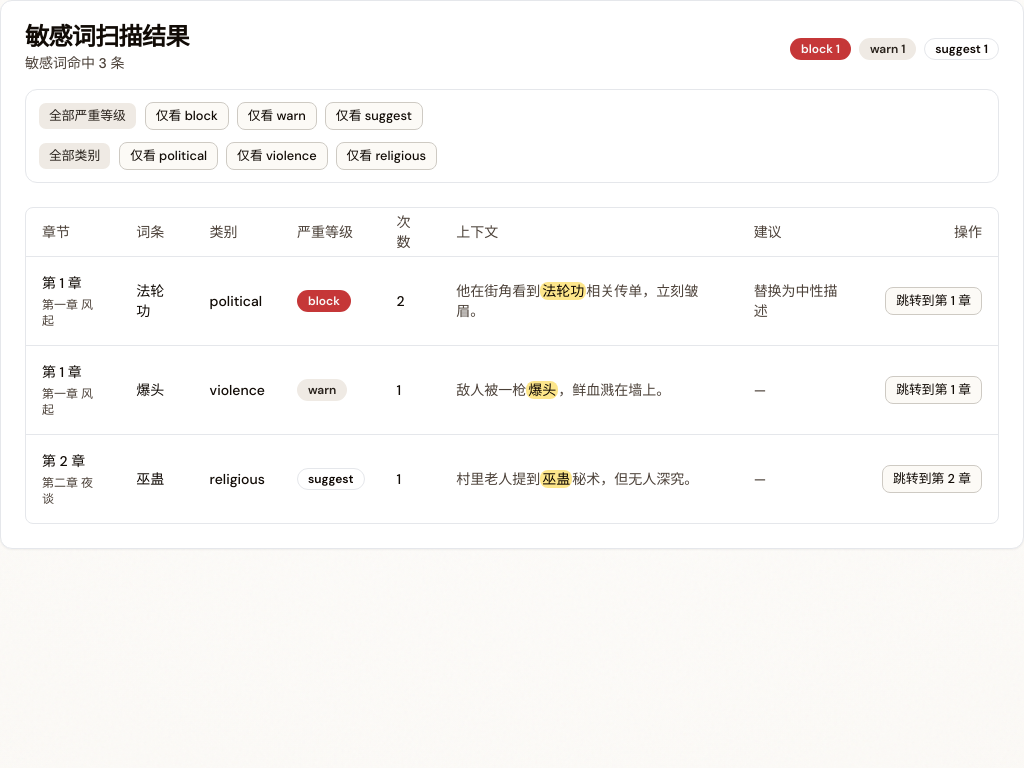
Test: SensitiveWordReport › renders hit rows and filters by severity/category
Expected: the text "敏感词命中 3 条" is shown, [25,54,124,72]
Expected: the text "法轮功" is shown, [120,256,194,345]
Click the button "仅看 block": (187,116) [145,102,229,130]
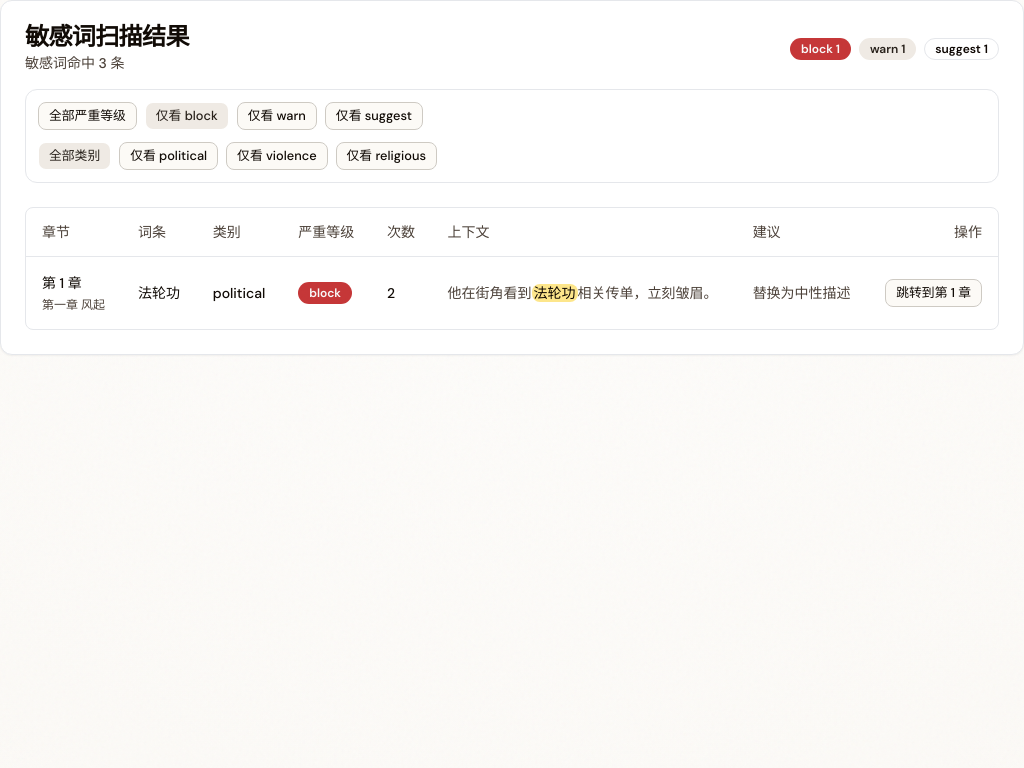
Expected: the text "法轮功" is shown, [122,256,197,328]
Expected: the text "爆头" is gone
Expected: the text "巫蛊" is gone
Click the button "全部严重等级": (87,116) [38,102,137,130]
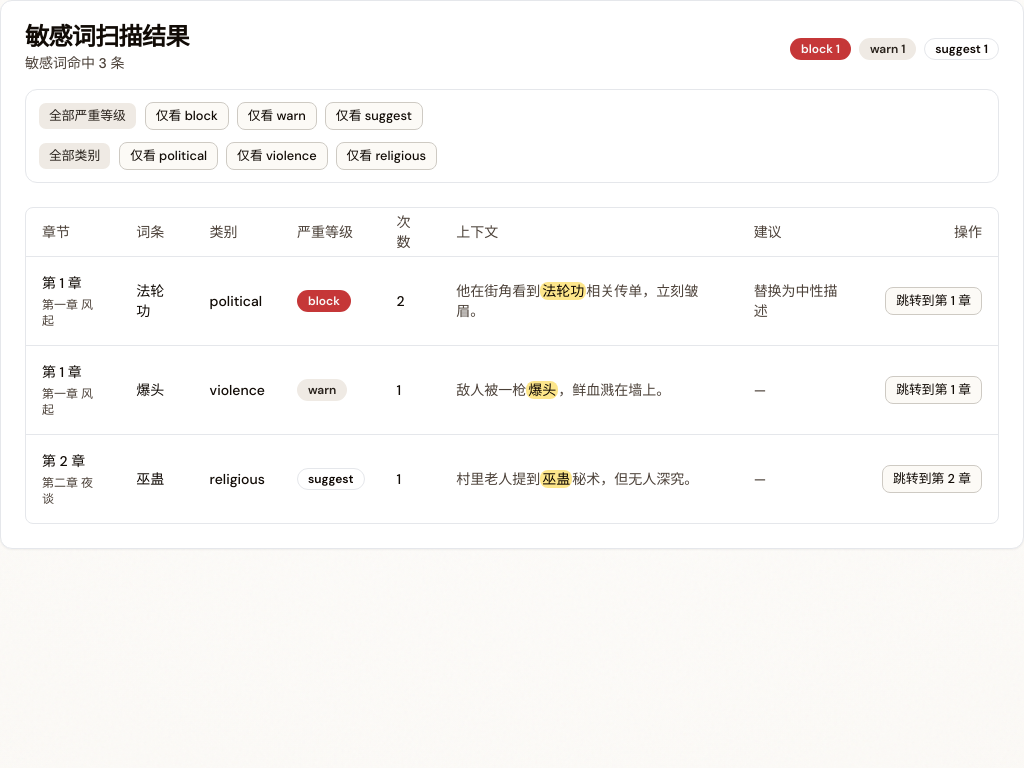
Click the button "仅看 violence": (277,156) [226,142,328,170]
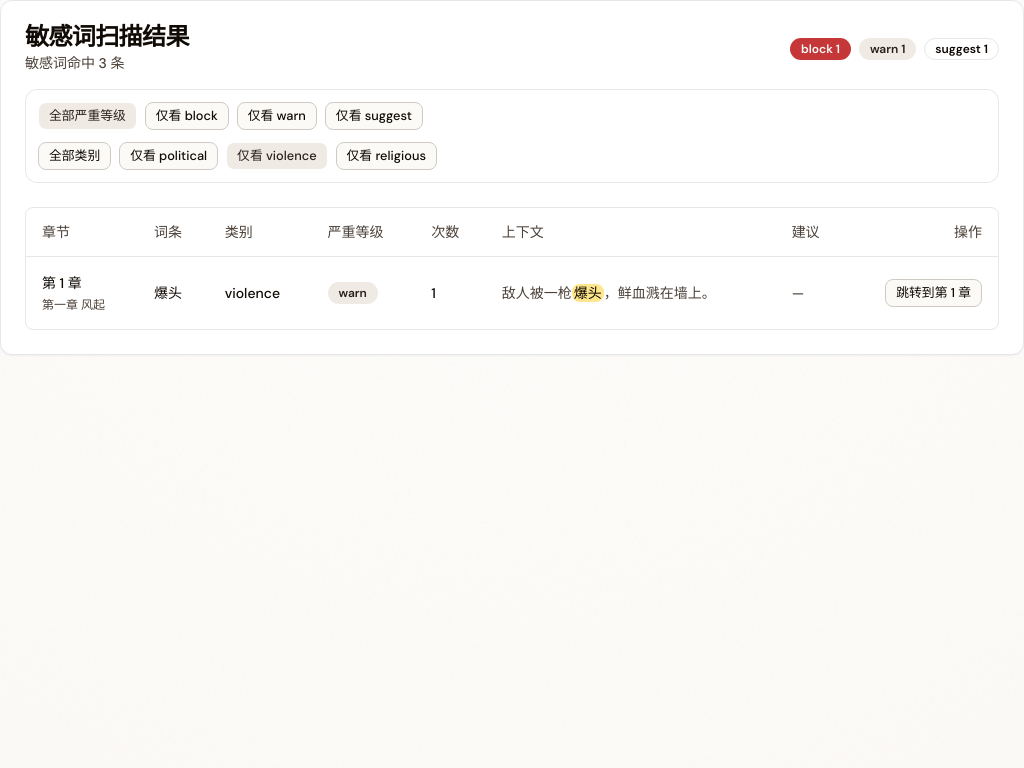
Expected: the text "爆头" is shown, [138,256,209,328]
Expected: the text "法轮功" is gone
